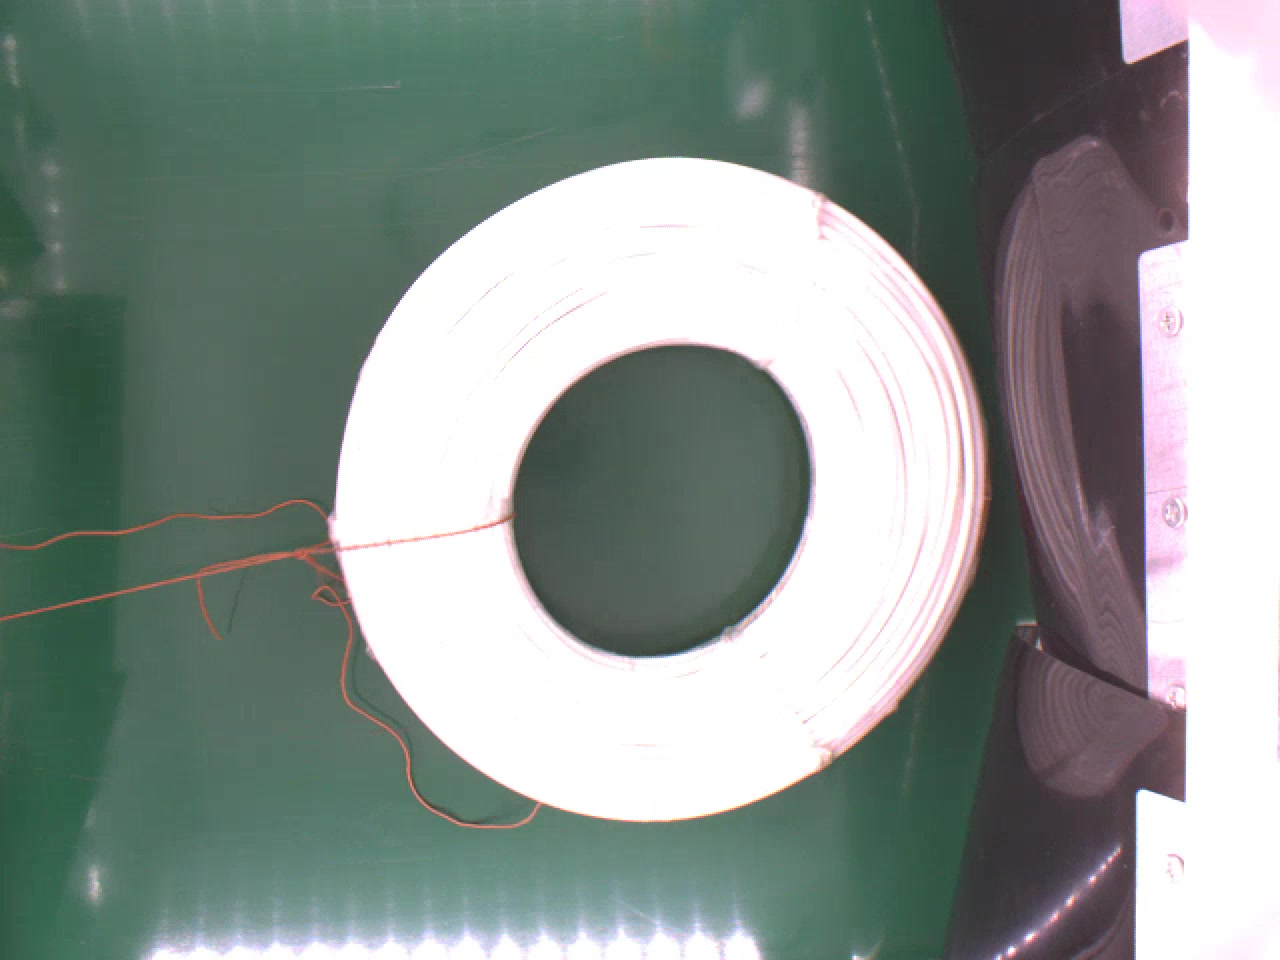white: (327, 153, 992, 825)
